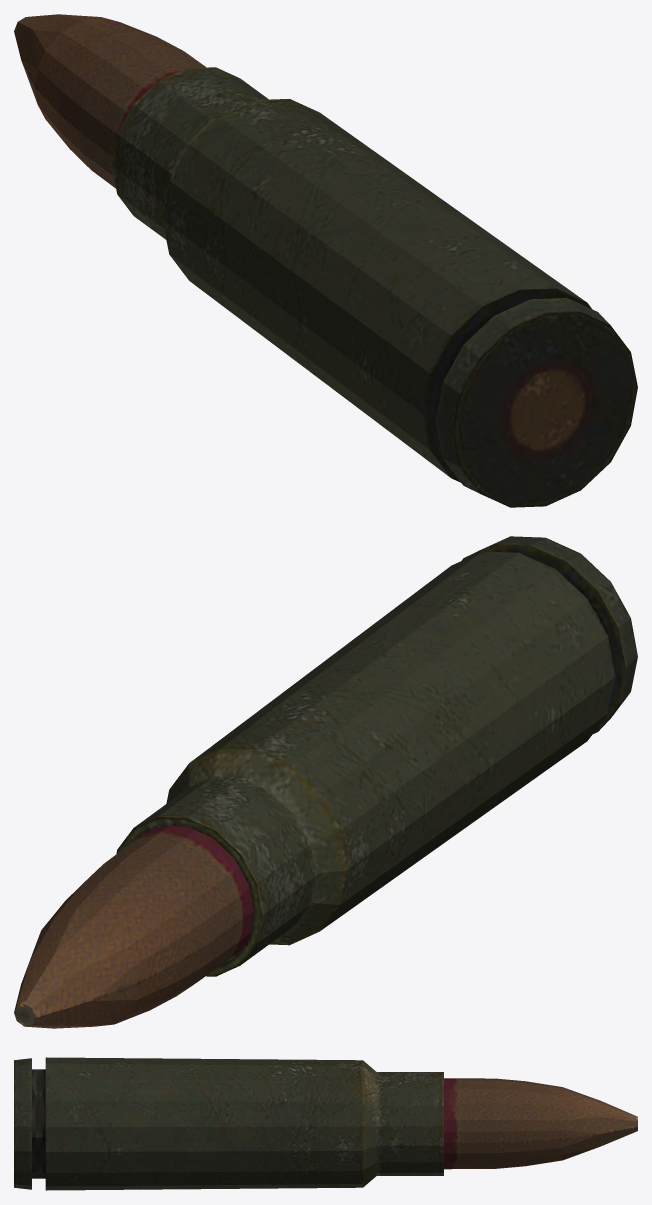
The picture shows the model from 3 angles, top to bottom: view 1: azimuth 30°, elevation 25°; view 2: azimuth 150°, elevation 25°; view 3: azimuth 270°, elevation 25°; orthographic projection. The views are drawn at different scales.
Parts seen in each view (by area): view 1: TW_57a0dfb82459774d3078b56c_PZ_Import; view 2: TW_57a0dfb82459774d3078b56c_PZ_Import; view 3: TW_57a0dfb82459774d3078b56c_PZ_Import.
Boxes of the visible parts, x1,y1,x2,y2 form: TW_57a0dfb82459774d3078b56c_PZ_Import: (14, 14, 637, 507); TW_57a0dfb82459774d3078b56c_PZ_Import: (14, 536, 637, 1028); TW_57a0dfb82459774d3078b56c_PZ_Import: (14, 1057, 637, 1190).
Size of the model in its own units: 0.0069 by 0.0324 by 0.0069.
1 material, 1 textured.
